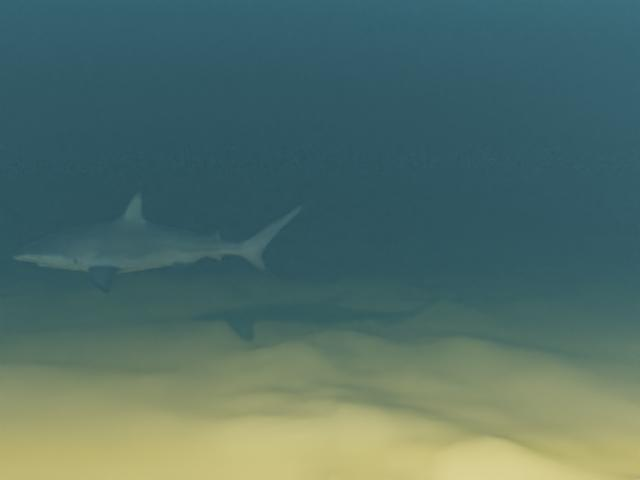Carribean Shark.001: (11, 190, 311, 293)
